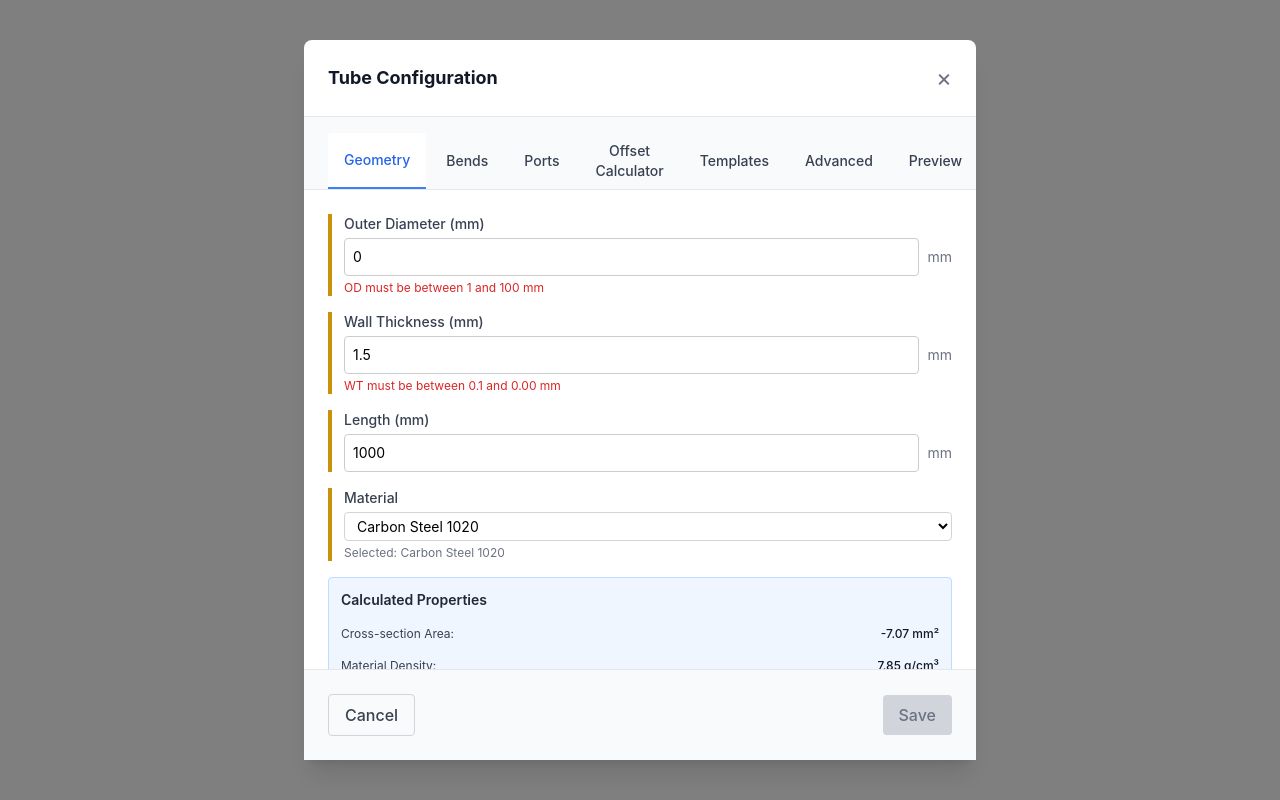
Test: TubeDialog › Tab Navigation › should switch to Bends tab
Click the tab "Bends" at (467, 161), box [430, 133, 504, 189]
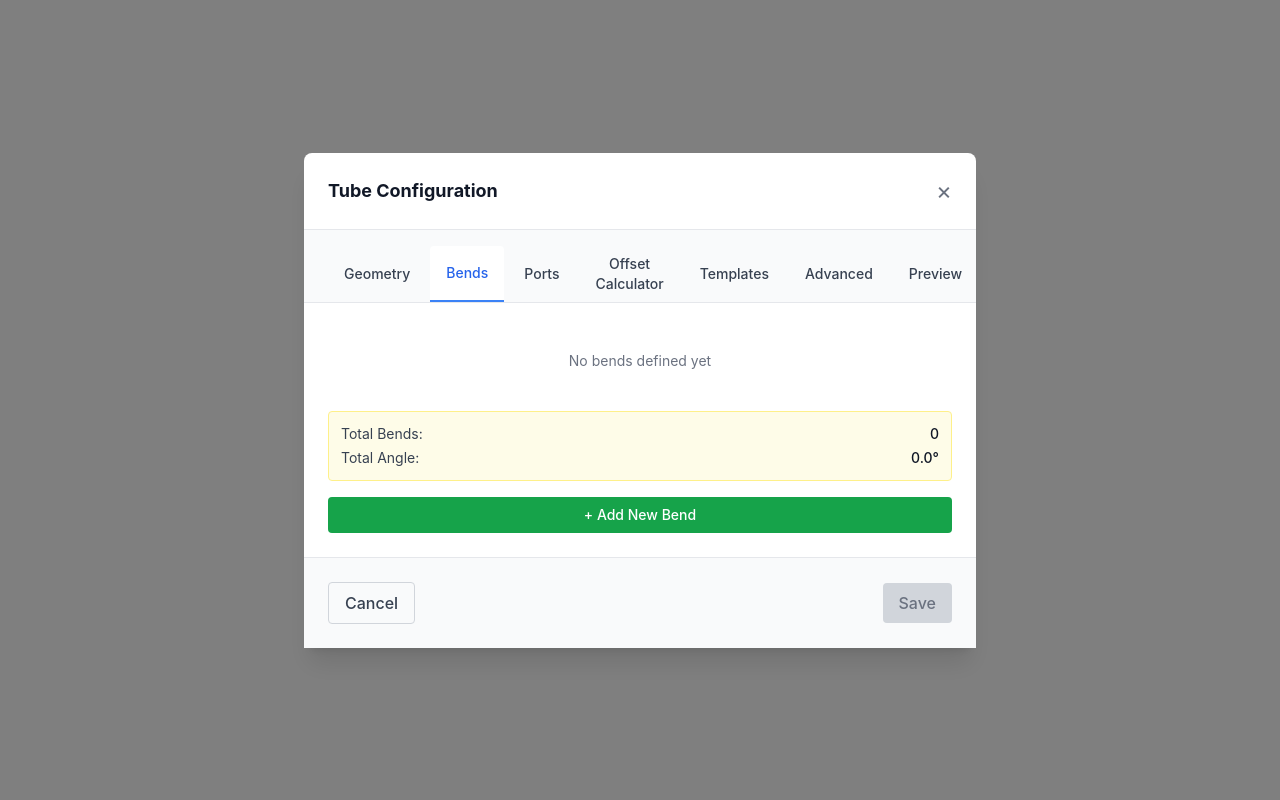
expect the button "+ Add New Bend" is shown: met, box [328, 496, 952, 532]
